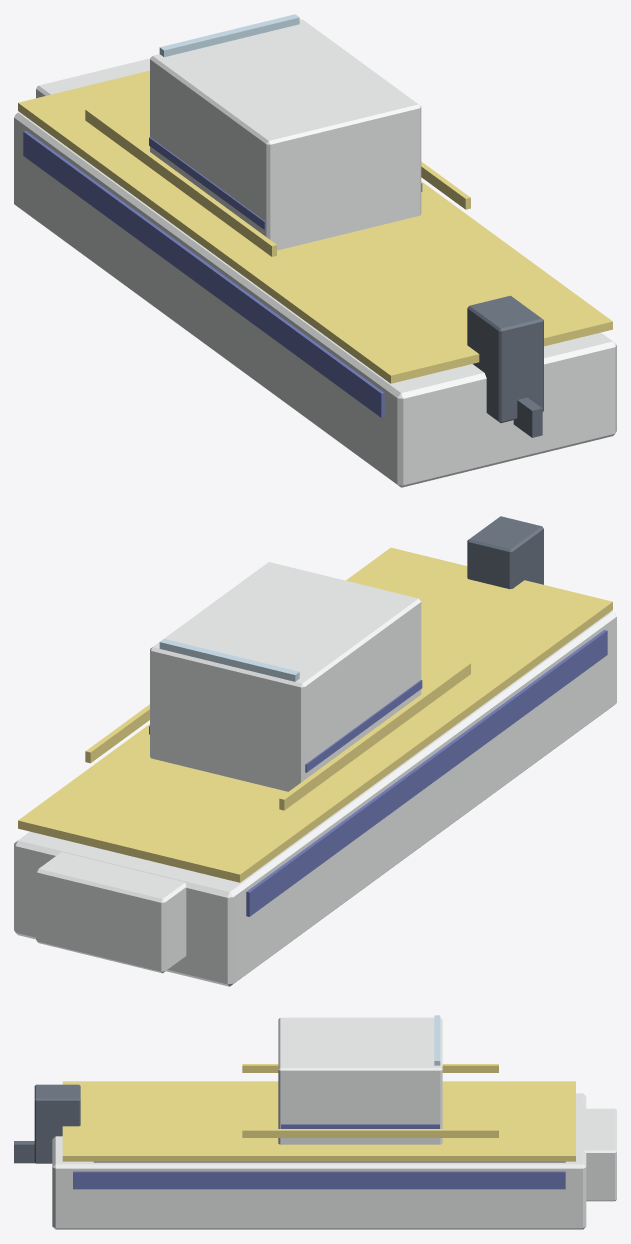
The model's file is motorboat_01.glb.
3 views of the same model, one above another, from view 1: azimuth 30°, elevation 25°; view 2: azimuth 150°, elevation 25°; view 3: azimuth 270°, elevation 25° (orthographic). The views are drawn at different scales.
Parts seen in each view (by area): view 1: motorboat_01; view 2: motorboat_01; view 3: motorboat_01.
Part boxes in pixels (x1,y1,x2,y2): motorboat_01: [14, 14, 616, 487]; motorboat_01: [14, 516, 616, 986]; motorboat_01: [14, 1015, 616, 1229].
Bounding box in the file's own units: 1.75 × 1.67 × 5.88.
